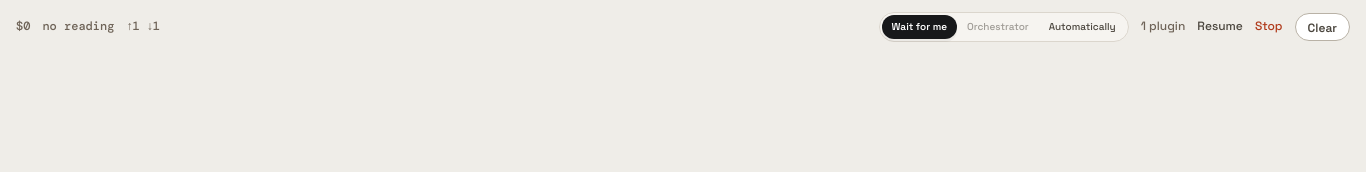
SessionStatusline › clears a refusal message once a later action succeeds
Step 1. Click the button "Resume" → x=1220, y=27, box x1=1197 y1=18 x2=1243 y2=36
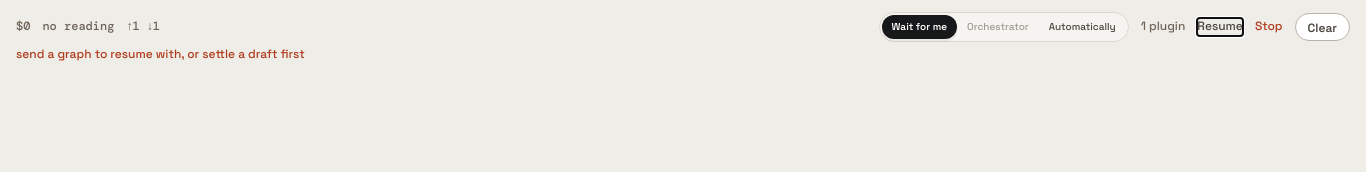
Expected: the message "send a graph to resume with, or settle a draft first" is shown, x1=16 y1=46 x2=305 y2=62
Step 2. Click the button "Resume" → x=1220, y=27, box x1=1197 y1=18 x2=1243 y2=36
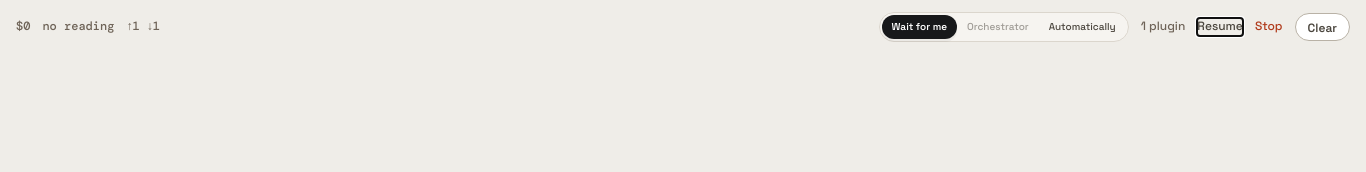
Expected: the message "send a graph to resume with, or settle a draft first" is gone
